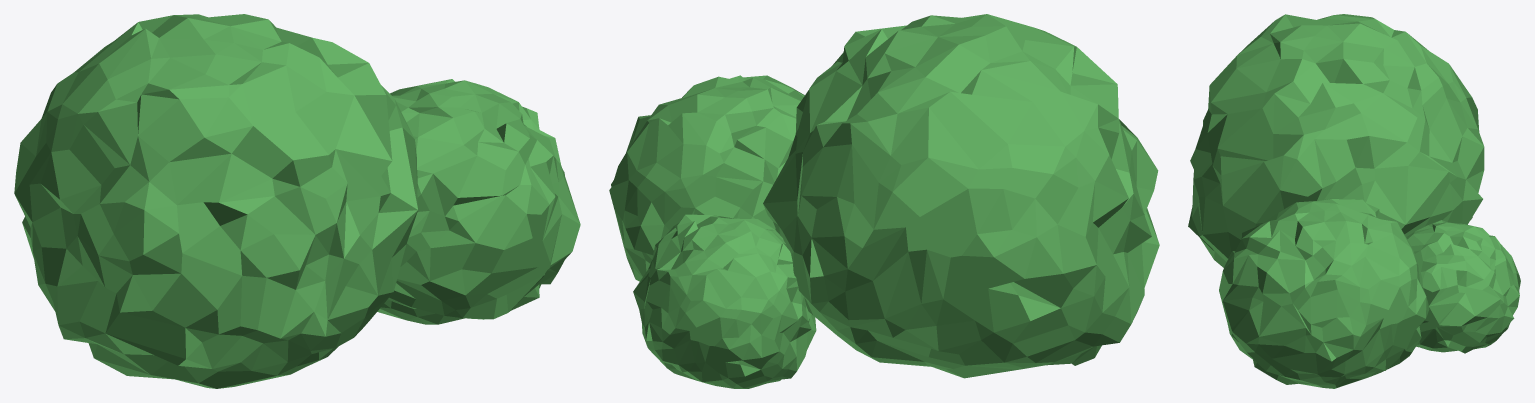
File: arbustoPeqVarios2.glb
3 renders of one model, left to right at view 1: azimuth 30°, elevation 25°; view 2: azimuth 150°, elevation 25°; view 3: azimuth 270°, elevation 25°, orthographic. The views are drawn at different scales.
Parts seen in each view (by area): view 1: Icosphere.002; view 2: Icosphere.002; view 3: Icosphere.002.
Boxes of the visible parts, left/top/right/bottom form: Icosphere.002: left=14, top=14, right=580, bottom=388; Icosphere.002: left=609, top=14, right=1159, bottom=388; Icosphere.002: left=1188, top=14, right=1520, bottom=388.
Bounding box in the file's own units: 1.9 × 1.19 × 1.39.
